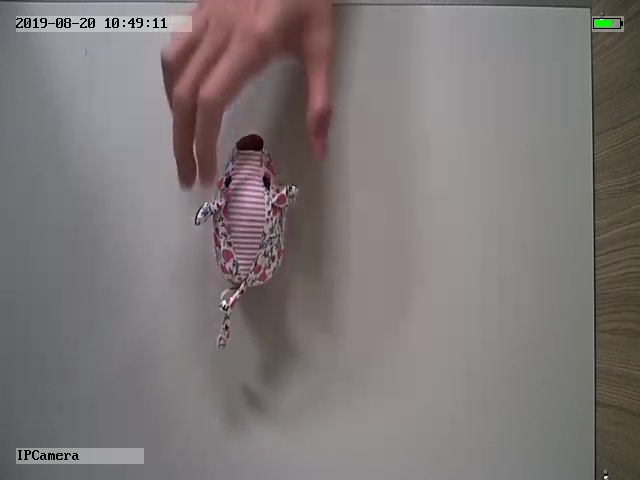pig: (195, 132, 302, 347)
